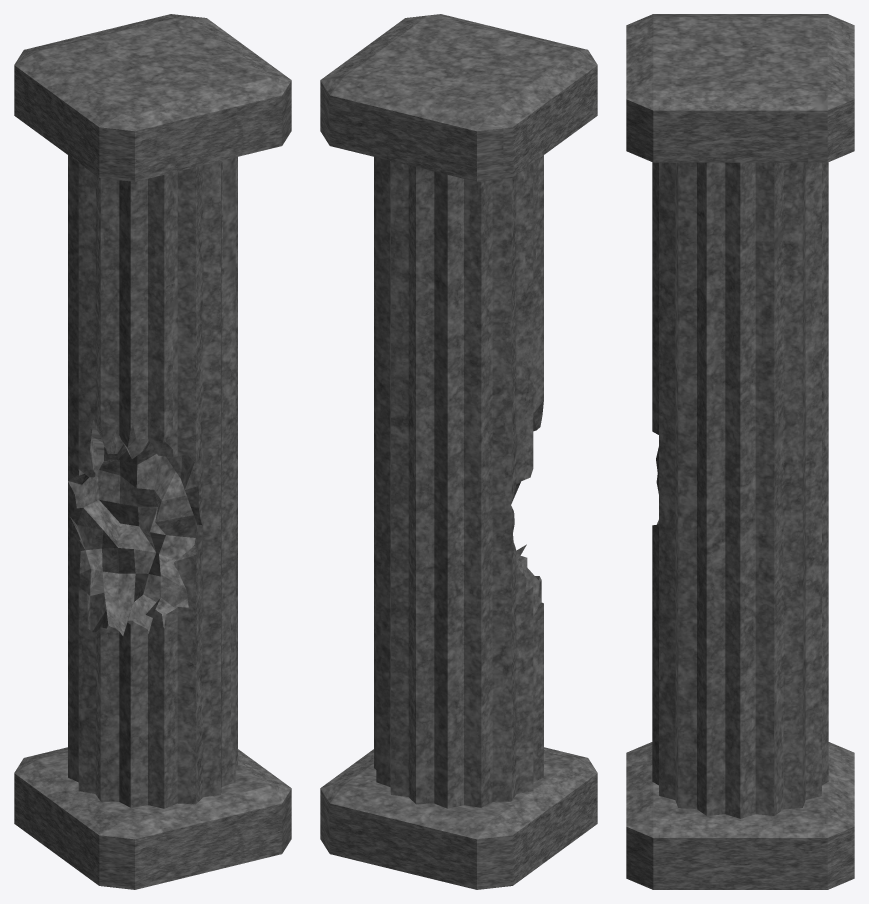
The model's file is Pillar_BlackRock_Square_Broken.fbx.
3 renders of one model, left to right at view 1: azimuth 30°, elevation 25°; view 2: azimuth 150°, elevation 25°; view 3: azimuth 270°, elevation 25°, orthographic. The views are drawn at different scales.
Parts seen in each view (by area): view 1: Pillar_SquareTop_Black_Base.001, Cube.003, Cube.004; view 2: Pillar_SquareTop_Black_Base.001, Cube.003, Cube.004; view 3: Pillar_SquareTop_Black_Base.001, Cube.003, Cube.004.
Boxes of the visible parts, x1,y1,x2,y2 form: Pillar_SquareTop_Black_Base.001: [68, 155, 237, 808]; Cube.003: [14, 14, 291, 181]; Cube.004: [14, 747, 291, 889]; Pillar_SquareTop_Black_Base.001: [374, 155, 543, 808]; Cube.003: [320, 14, 597, 181]; Cube.004: [320, 747, 597, 889]; Pillar_SquareTop_Black_Base.001: [652, 162, 828, 818]; Cube.003: [626, 14, 854, 162]; Cube.004: [626, 742, 854, 889].
Size of the model in its own units: 139 by 534 by 139.
1 material, 1 textured.
